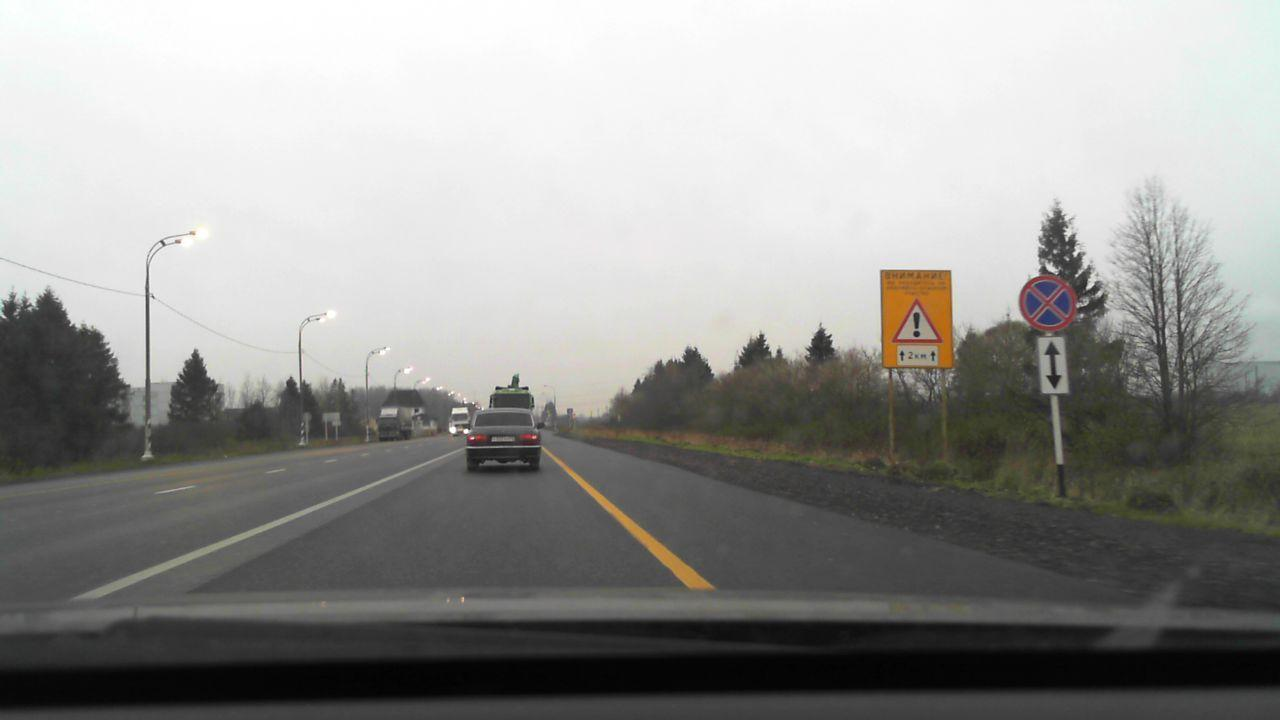1_33: (891, 297, 942, 343)
3_27: (1018, 274, 1078, 331)
8_2_1: (895, 342, 939, 367)
8_2_4: (1036, 337, 1070, 398)
